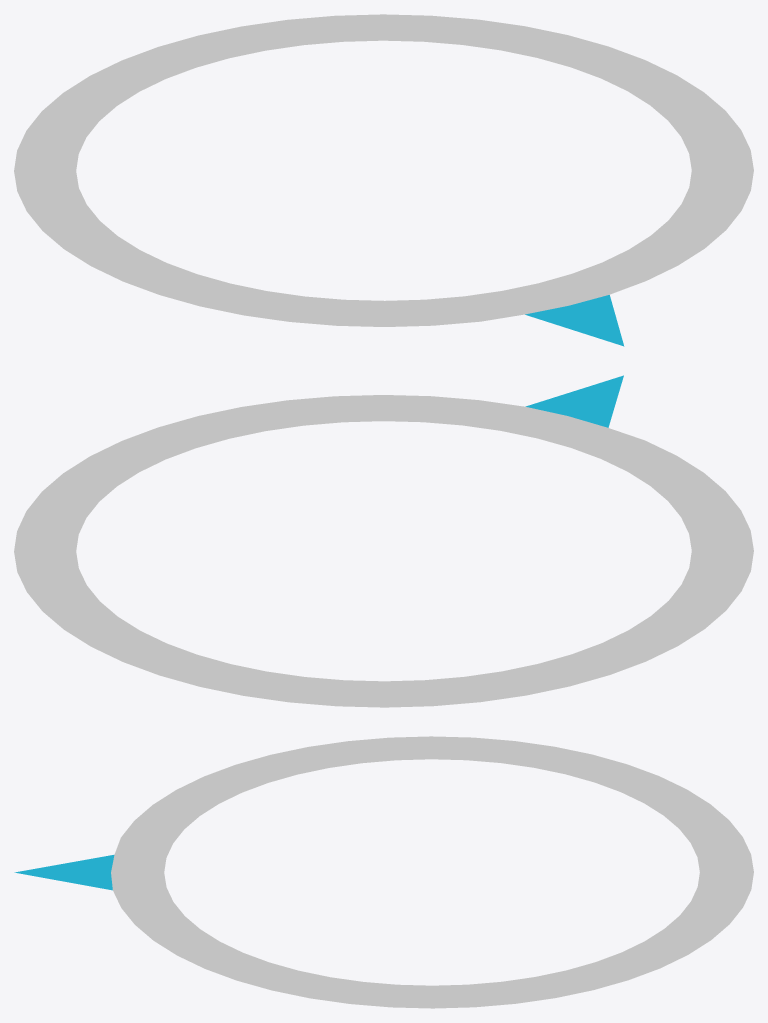
Rendered from pointerRing.glb.
3 renders of one model, top to bottom at view 1: azimuth 30°, elevation 25°; view 2: azimuth 150°, elevation 25°; view 3: azimuth 270°, elevation 25°, orthographic. The views are drawn at different scales.
Visible parts, largest first — view 1: Circle; view 2: Circle; view 3: Circle.
Boxes of the visible parts, box(x1,y1,x2,y2) form: Circle: box(14, 14, 753, 346); Circle: box(14, 375, 753, 707); Circle: box(14, 736, 753, 1008).
Bounding box in the file's own units: 2 × 0 × 2.3.
